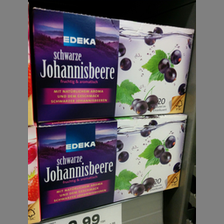tea: (30, 7, 195, 122), (37, 114, 187, 219)
